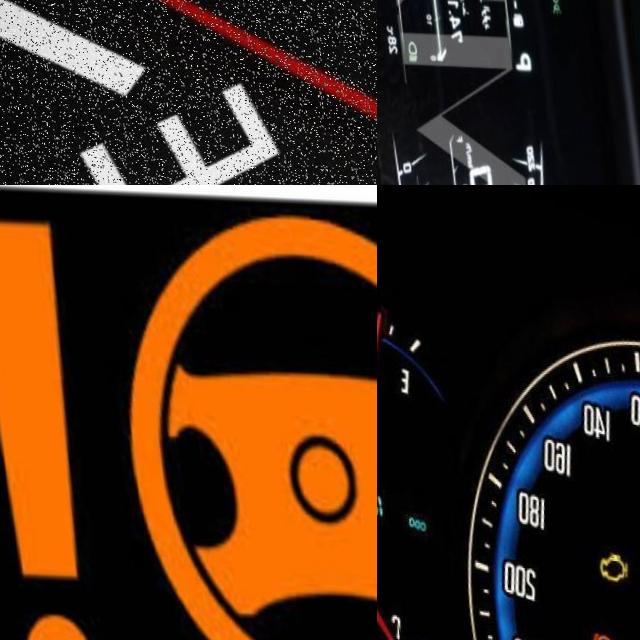Electronic Power Steering: (0, 199, 377, 640)
